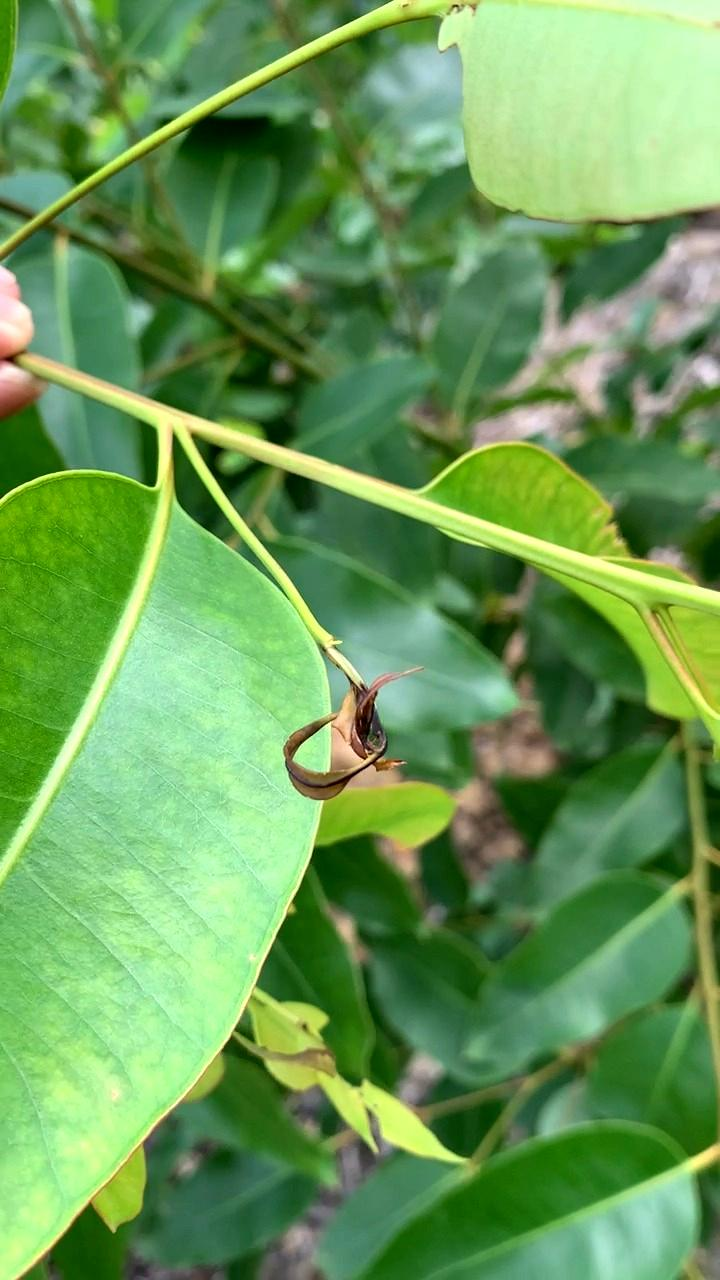Helopeltis-Withered Sprout: (276, 663, 429, 797)
